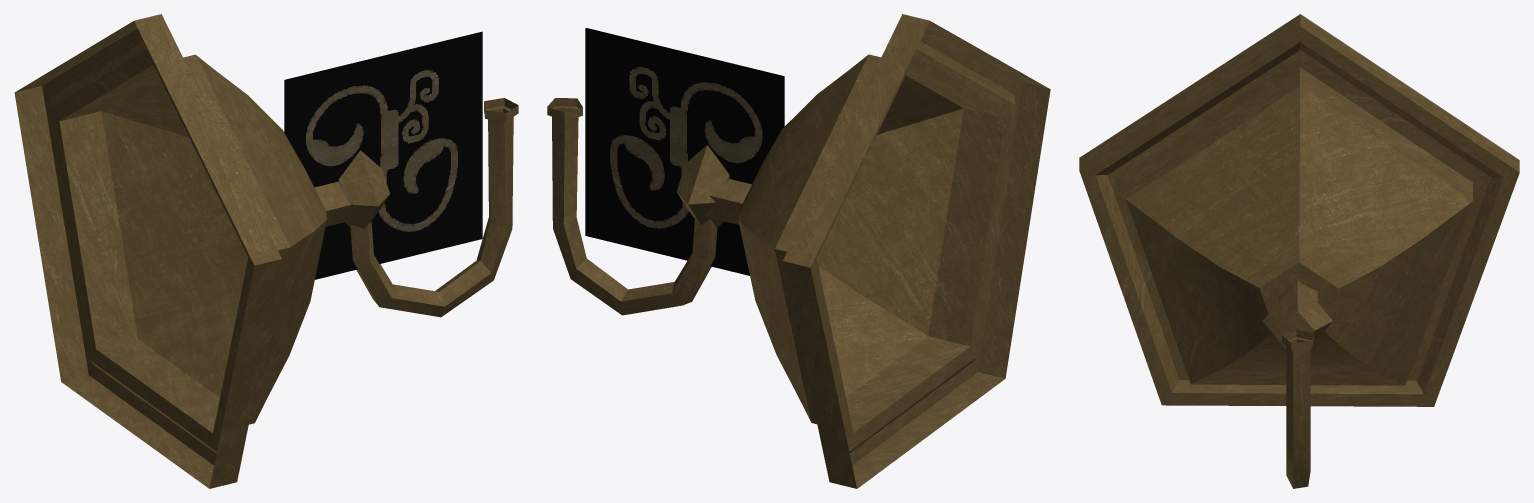
File: Prop_Lampe.fbx
The picture shows the model from 3 angles, left to right: view 1: azimuth 30°, elevation 25°; view 2: azimuth 150°, elevation 25°; view 3: azimuth 270°, elevation 25°; orthographic projection. The views are drawn at different scales.
Visible parts, largest first — view 1: Circle_NoneLampe_; view 2: Circle_NoneLampe_; view 3: Circle_NoneLampe_.
Part boxes in pixels (x1,y1,x2,y2): Circle_NoneLampe_: [14, 14, 518, 488]; Circle_NoneLampe_: [547, 14, 1050, 488]; Circle_NoneLampe_: [1079, 14, 1519, 488].
Size of the model in its own units: 0.7879 by 0.8224 by 0.8631.
